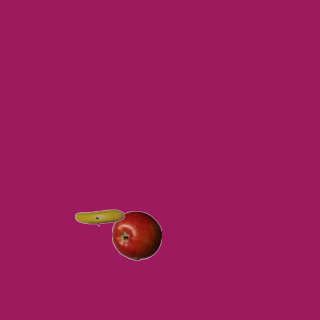Apple Braeburn: (111, 210, 161, 260)
Banana: (74, 192, 124, 242)
